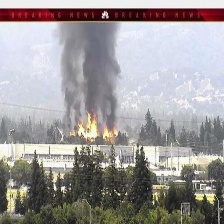fire: (64, 114, 123, 140)
smoke: (50, 22, 127, 120)
